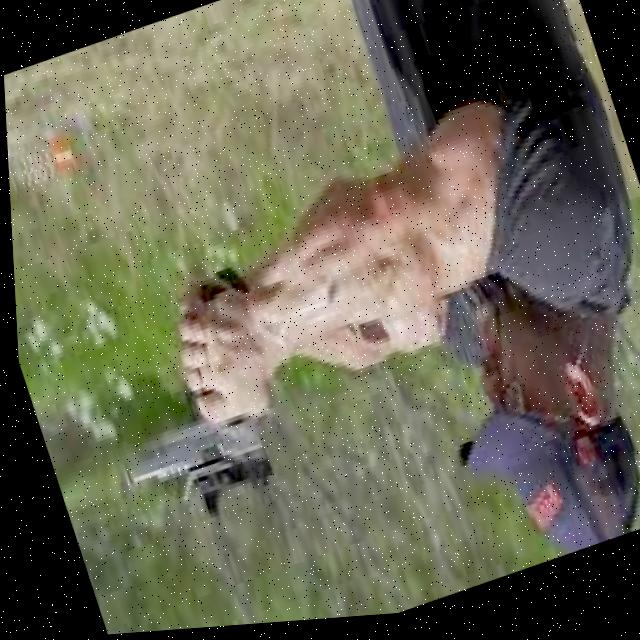pistol: (108, 402, 278, 547)
